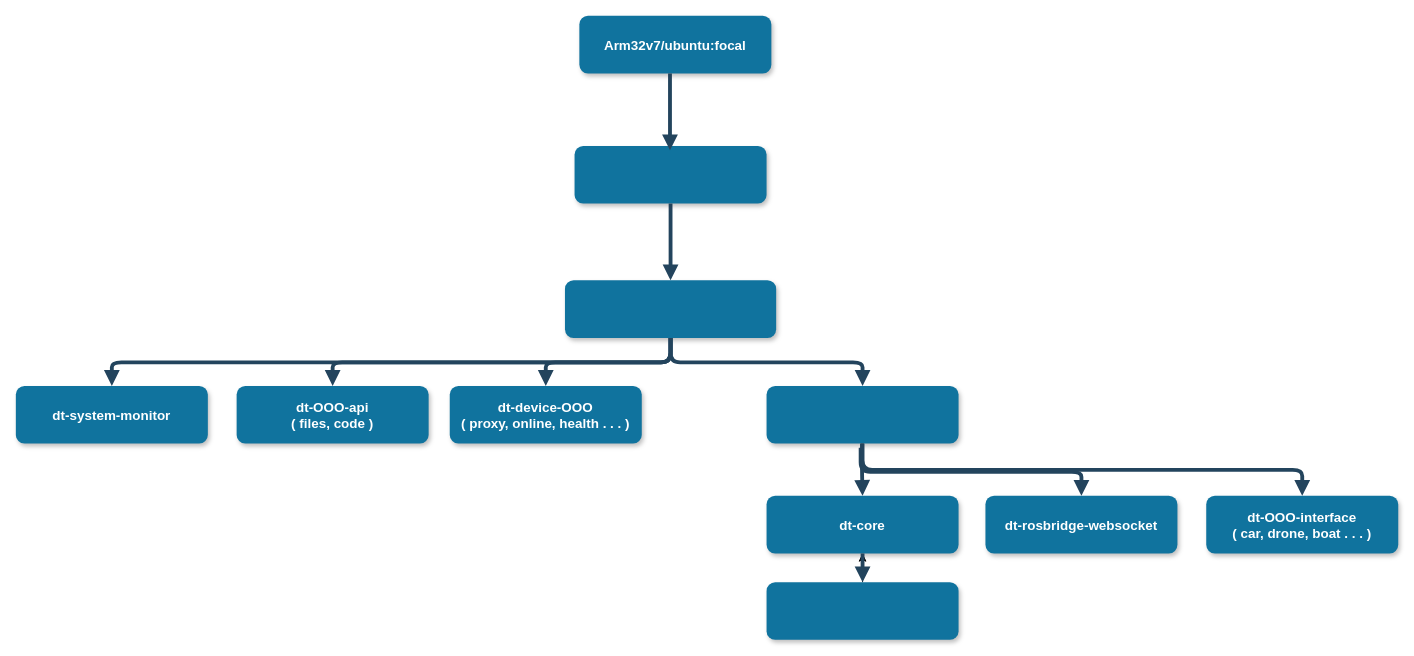
Image size: 1414x656. Some labels were removed from this diagram. The centre of each missing label's shape, as x and y in pixels:
dt-base-environment: point 671,176
dt-commons: point 671,310
dt-gui-tools: point 863,612
dt-ros-commons: point 863,416
